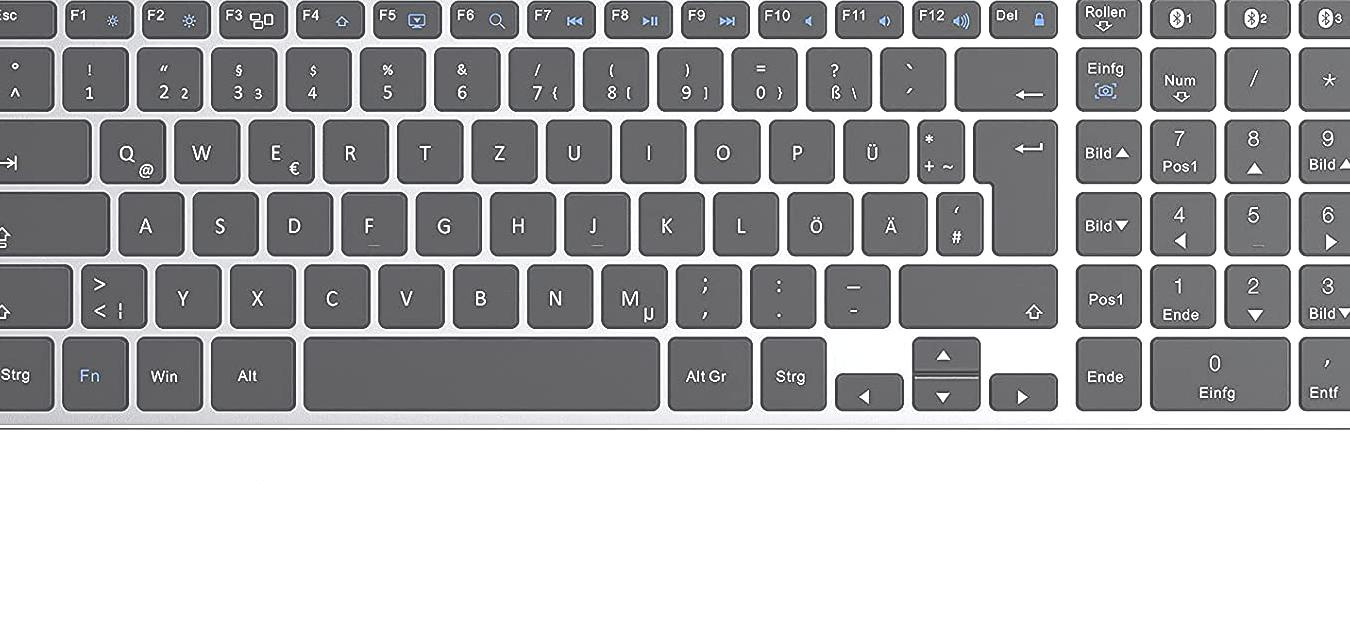0: (727, 42, 797, 109)
1: (58, 42, 126, 108)
2: (132, 42, 201, 108)
3: (206, 42, 276, 109)
4: (283, 42, 349, 108)
5: (356, 43, 424, 109)
6: (430, 42, 500, 109)
7: (505, 42, 573, 109)
8: (578, 42, 648, 109)
9: (652, 42, 722, 109)
a: (114, 186, 181, 253)
accent: (877, 42, 944, 108)
ae: (857, 186, 925, 254)
alt-left: (206, 330, 293, 409)
altgr-right: (663, 330, 750, 409)
b: (447, 259, 518, 325)
c: (299, 259, 369, 326)
caret: (1, 42, 50, 108)
comma: (671, 258, 739, 325)
d: (262, 187, 330, 254)
del: (951, 41, 1056, 109)
e: (243, 114, 312, 182)
enter: (970, 114, 1056, 254)
f: (337, 186, 404, 253)
g: (411, 187, 479, 254)
h: (485, 186, 554, 253)
hash: (932, 186, 981, 253)
i: (616, 113, 684, 180)
j: (560, 186, 627, 254)
k: (634, 186, 702, 254)
keyboard: (1, 1, 1350, 430)
l: (709, 186, 776, 253)
less: (76, 258, 145, 325)
m: (595, 258, 666, 326)
minus: (819, 259, 889, 325)
n: (522, 259, 591, 326)
o: (689, 114, 758, 181)
oe: (783, 187, 851, 253)
p: (765, 114, 832, 180)
plus: (913, 114, 962, 181)
point: (745, 259, 814, 324)
q: (94, 114, 164, 182)
r: (318, 114, 387, 181)
s: (187, 187, 256, 254)
shift-left: (1, 259, 70, 326)
shift-lock: (1, 186, 108, 253)
shift-right: (894, 258, 1056, 326)
space: (299, 330, 657, 410)
ss: (802, 42, 870, 109)
strg-left: (1, 330, 52, 409)
strg-right: (756, 330, 825, 409)
t: (393, 113, 460, 180)
tab: (1, 113, 89, 181)
u: (541, 114, 609, 181)
ue: (838, 113, 907, 181)
v: (374, 258, 443, 326)
w: (169, 113, 237, 181)
x: (226, 259, 294, 325)
y: (150, 259, 220, 325)
z: (467, 114, 536, 181)
